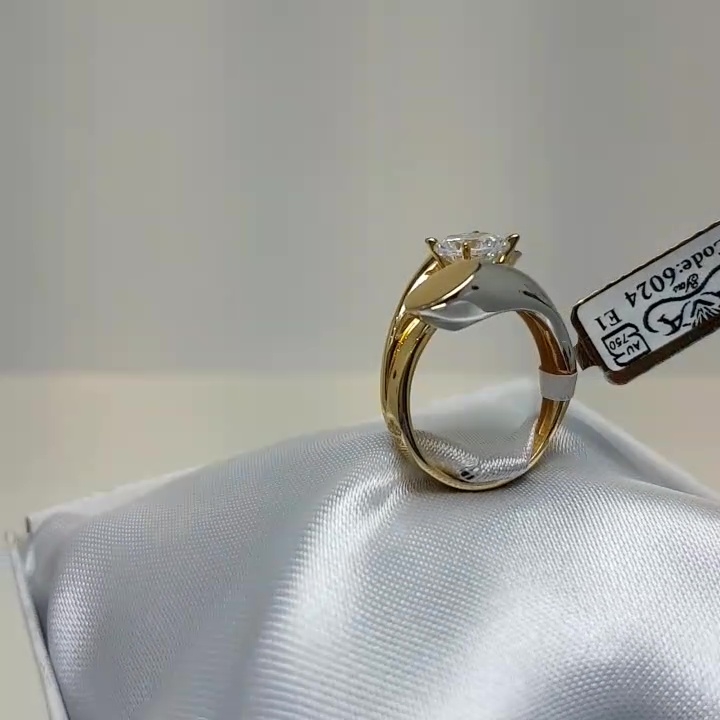Ring 7: (343, 222, 578, 508)
